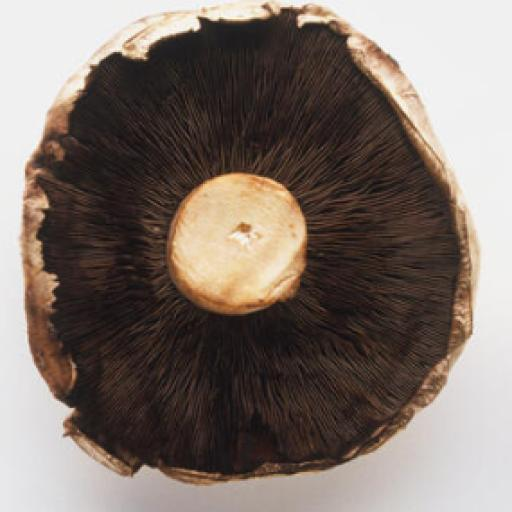Button Mushroom: (19, 2, 485, 490)
